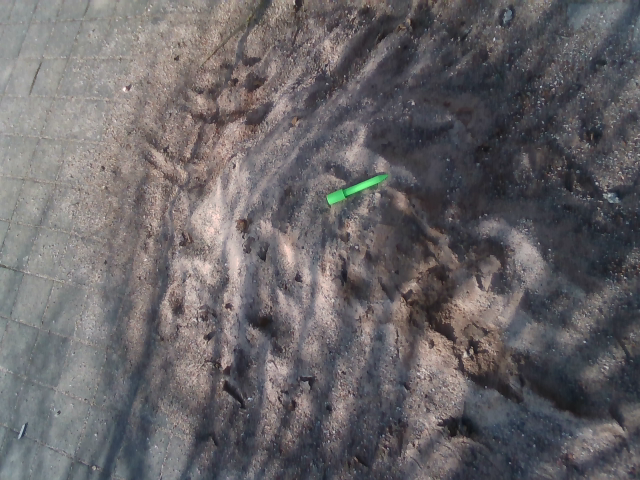Probe: (323, 168, 395, 210)
